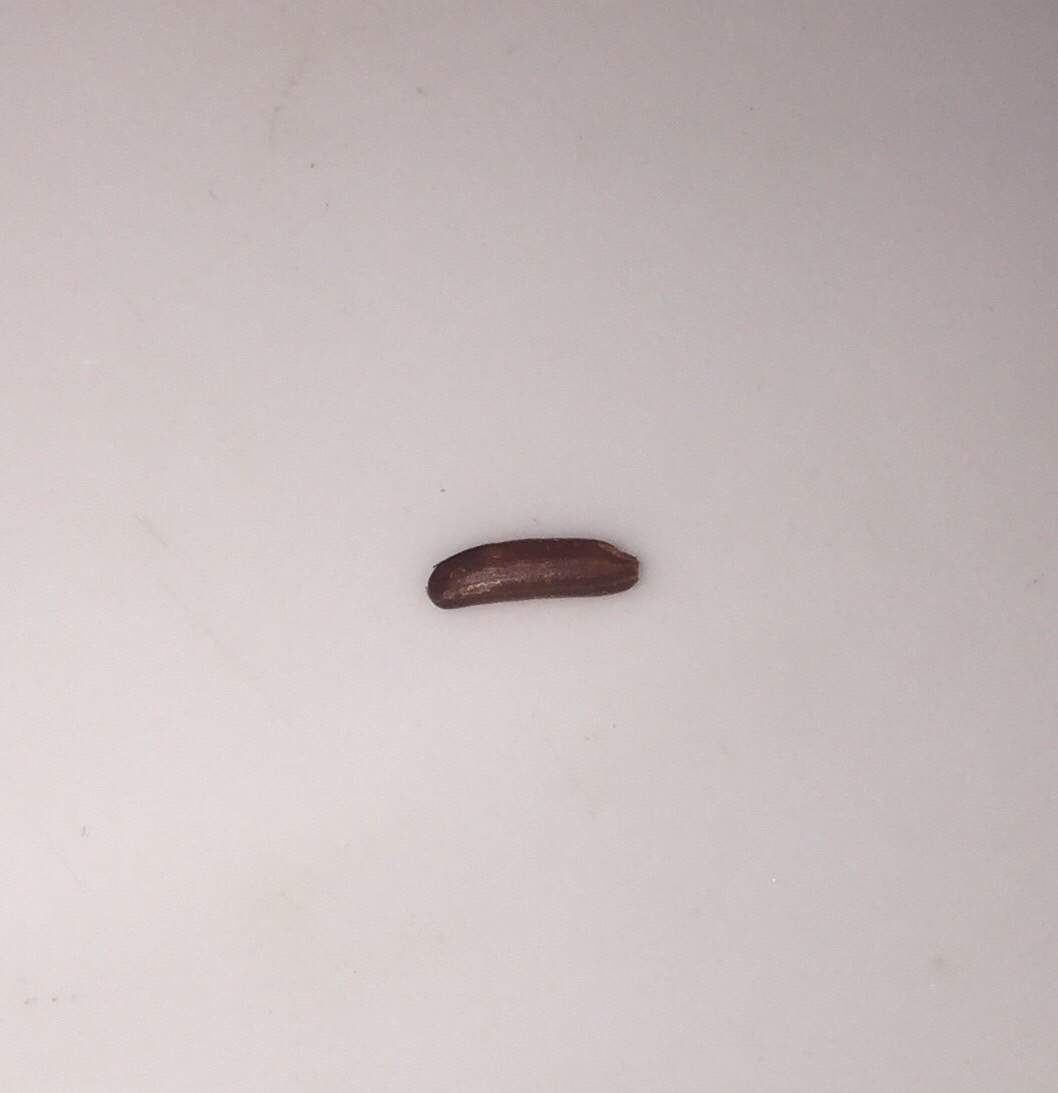Gao Huyet Rong: (413, 521, 648, 626)
